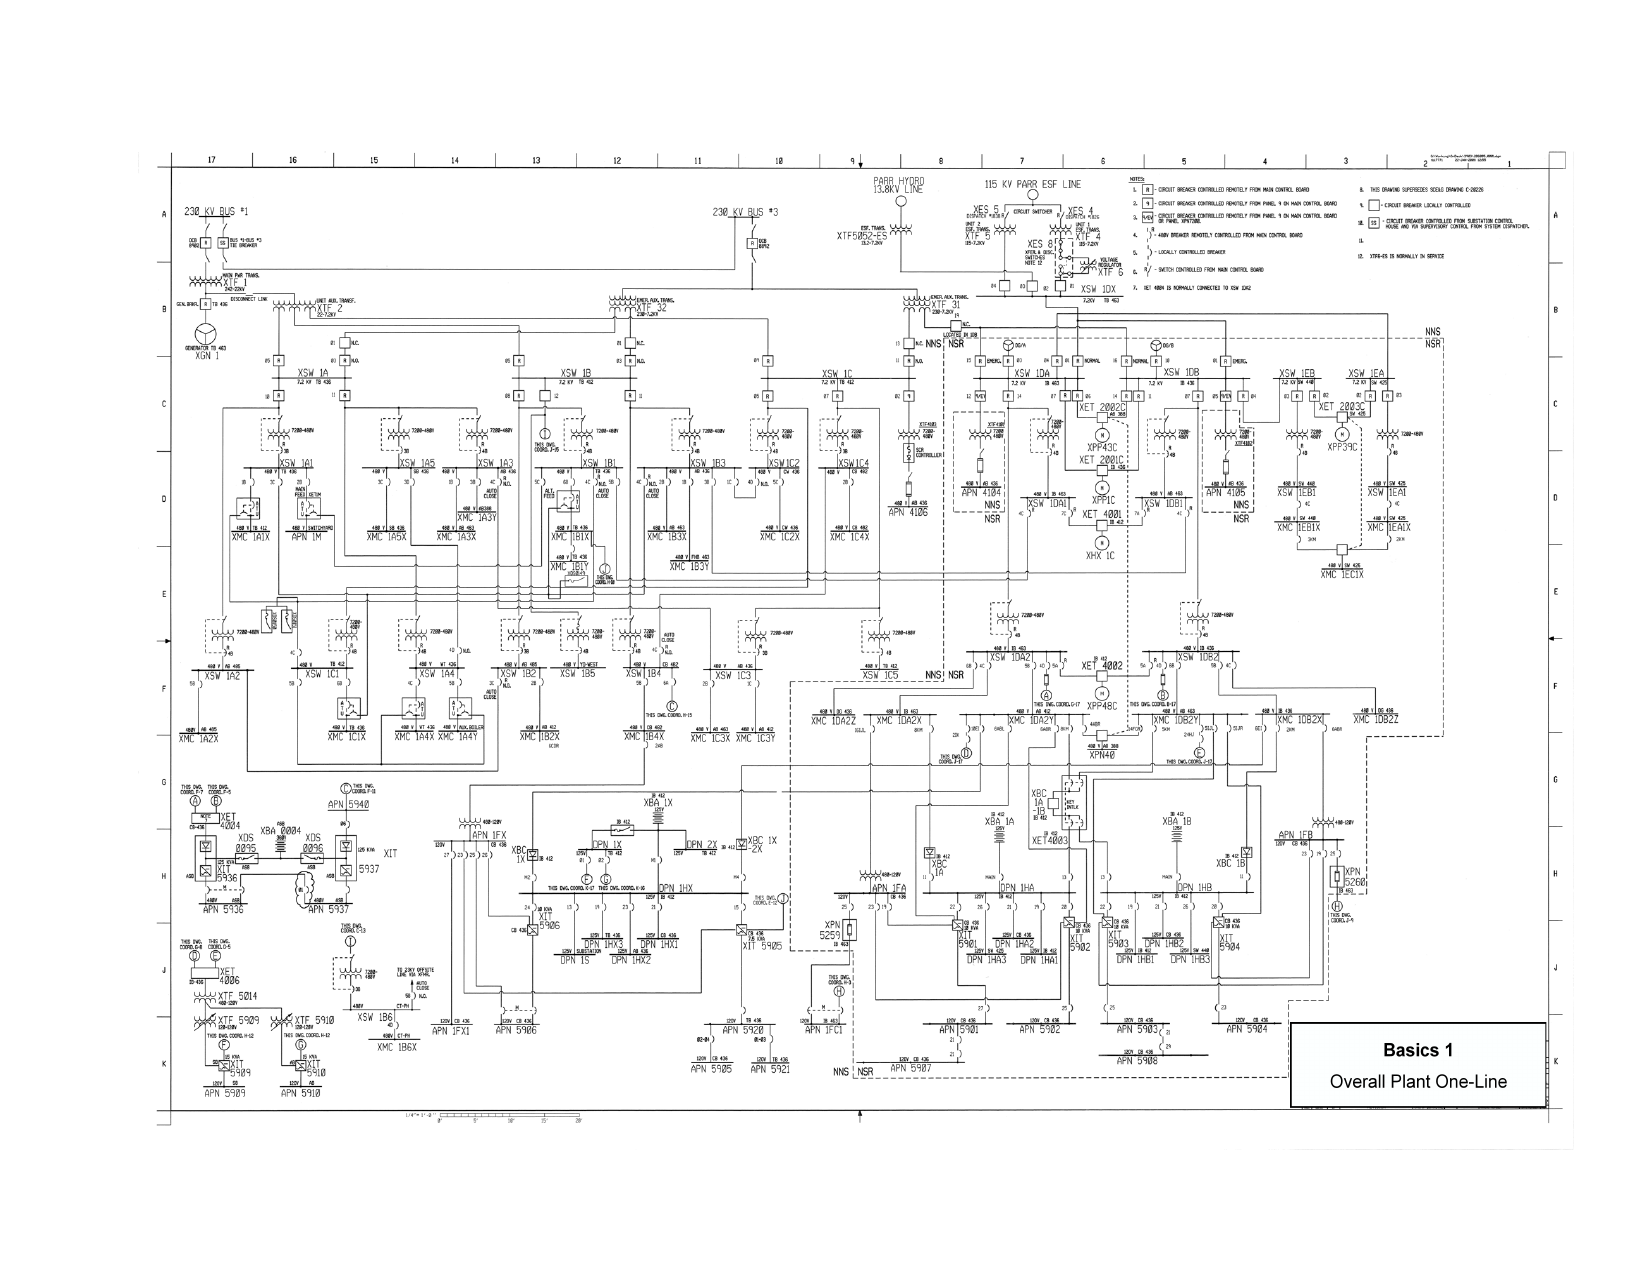circuit_breaker: (725, 471, 746, 492), (402, 473, 421, 493), (492, 473, 510, 493), (637, 471, 654, 494), (656, 474, 676, 492), (771, 474, 793, 490), (623, 897, 640, 916), (1154, 897, 1172, 916), (451, 671, 467, 691), (921, 867, 937, 887), (242, 474, 260, 492), (447, 473, 465, 490), (410, 674, 427, 691), (734, 868, 751, 885), (651, 849, 667, 868), (587, 474, 604, 490), (567, 899, 583, 916), (525, 899, 541, 916), (339, 814, 355, 832), (923, 719, 939, 737), (1061, 867, 1077, 884), (1098, 999, 1114, 1017), (734, 1002, 753, 1017), (704, 474, 721, 490), (299, 473, 315, 489), (532, 674, 548, 690), (1152, 1025, 1173, 1037), (1152, 1041, 1173, 1053), (683, 473, 698, 490), (342, 982, 359, 996), (801, 998, 816, 1015), (272, 471, 285, 490), (950, 1047, 970, 1059), (842, 474, 857, 490), (750, 474, 765, 490), (595, 897, 611, 912), (526, 869, 541, 885), (442, 848, 458, 862), (749, 675, 763, 691), (1184, 899, 1199, 915), (832, 1002, 846, 1018), (1169, 867, 1184, 883), (537, 474, 550, 492), (470, 471, 483, 489), (293, 643, 307, 660), (600, 852, 613, 869), (637, 672, 651, 690), (667, 672, 680, 690), (952, 897, 966, 915), (1063, 897, 1077, 915), (1104, 895, 1117, 912), (382, 473, 394, 492), (479, 849, 498, 861), (735, 896, 747, 915), (1035, 896, 1047, 915), (611, 474, 625, 489), (342, 674, 356, 688), (200, 881, 214, 896), (1062, 1000, 1077, 1015), (291, 675, 307, 688), (493, 674, 506, 690), (470, 846, 483, 862), (980, 1002, 996, 1015), (655, 643, 667, 660), (967, 656, 979, 674), (1065, 721, 1077, 738), (869, 899, 881, 916), (884, 899, 896, 916), (234, 883, 249, 896), (342, 883, 355, 897), (978, 900, 992, 913), (1130, 899, 1144, 913), (458, 846, 470, 862), (639, 737, 651, 753), (865, 719, 877, 735), (844, 899, 856, 915), (494, 1000, 506, 1017), (581, 853, 595, 867), (407, 988, 421, 1002), (706, 678, 719, 691), (526, 1003, 540, 1017), (564, 473, 579, 485), (193, 676, 205, 691), (1026, 658, 1038, 672), (652, 901, 667, 913), (1104, 869, 1116, 884), (1007, 900, 1019, 913), (390, 1017, 400, 1031), (976, 721, 987, 735), (1003, 721, 1014, 735), (706, 1031, 717, 1046), (962, 718, 971, 734), (954, 1031, 964, 1045), (984, 658, 994, 672), (1042, 658, 1053, 670), (1081, 721, 1089, 737), (767, 1030, 775, 1046), (1053, 722, 1062, 735), (1058, 658, 1066, 672)
fuse: (1041, 671, 1054, 688)
transformer: (554, 418, 603, 449), (374, 418, 418, 450), (445, 804, 489, 834), (454, 418, 497, 449), (257, 418, 297, 447), (893, 292, 937, 317), (958, 418, 999, 445), (599, 291, 642, 316), (746, 422, 786, 447), (892, 418, 928, 446), (182, 269, 226, 292), (1304, 809, 1349, 832), (613, 619, 647, 648), (674, 423, 710, 449), (820, 423, 854, 449), (502, 624, 537, 648), (861, 624, 897, 647), (400, 621, 433, 647), (329, 623, 364, 646), (333, 962, 368, 984), (187, 1010, 220, 1034), (558, 623, 592, 646), (269, 297, 320, 312), (850, 864, 893, 881), (741, 628, 777, 648), (208, 624, 240, 646), (992, 608, 1025, 629), (1033, 423, 1065, 445), (1150, 425, 1184, 445), (1282, 422, 1311, 445), (1209, 423, 1240, 445), (1183, 608, 1216, 627), (189, 987, 222, 1006), (265, 1012, 300, 1030), (887, 217, 915, 238), (991, 221, 1021, 240), (1371, 425, 1401, 443), (1045, 221, 1075, 238)
